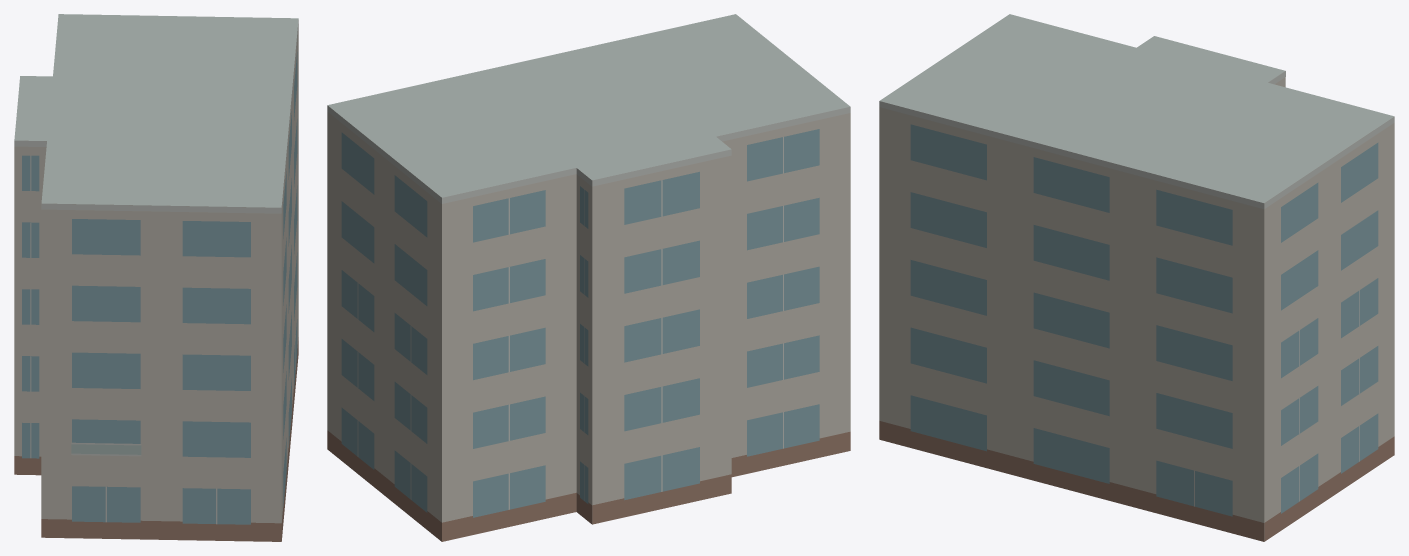
The model's file is survey-upis-32607781.glb.
3 renders of one model, left to right at view 1: azimuth 30°, elevation 25°; view 2: azimuth 150°, elevation 25°; view 3: azimuth 270°, elevation 25°, orthographic. The views are drawn at different scales.
Visible parts, largest first — view 1: survey-upis-32607781.tmp; view 2: survey-upis-32607781.tmp; view 3: survey-upis-32607781.tmp.
Boxes of the visible parts, bbox=[...] form: survey-upis-32607781.tmp: bbox=[14, 14, 298, 541]; survey-upis-32607781.tmp: bbox=[327, 14, 850, 541]; survey-upis-32607781.tmp: bbox=[879, 14, 1394, 541].
Size of the model in its own units: 16.19 by 13.5 by 18.63.
